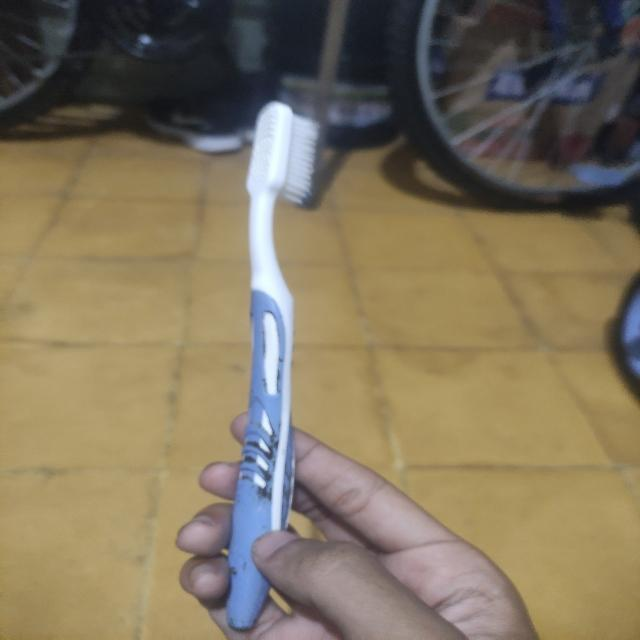toothbrush: (215, 87, 344, 640)
